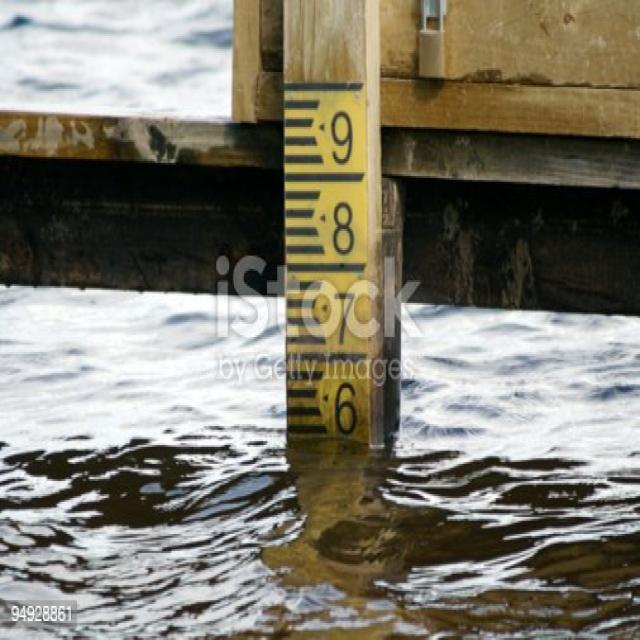staff: (284, 76, 370, 443)
